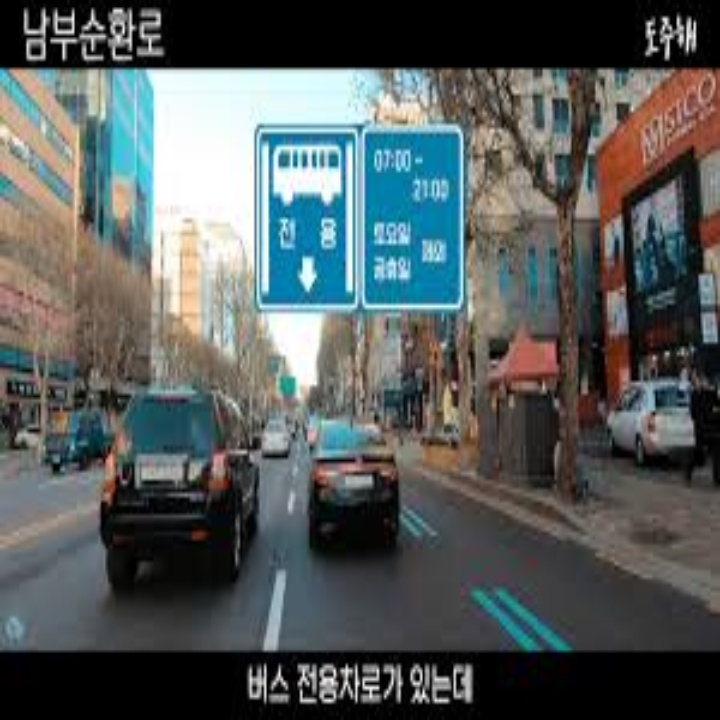bus: (270, 134, 344, 209)
